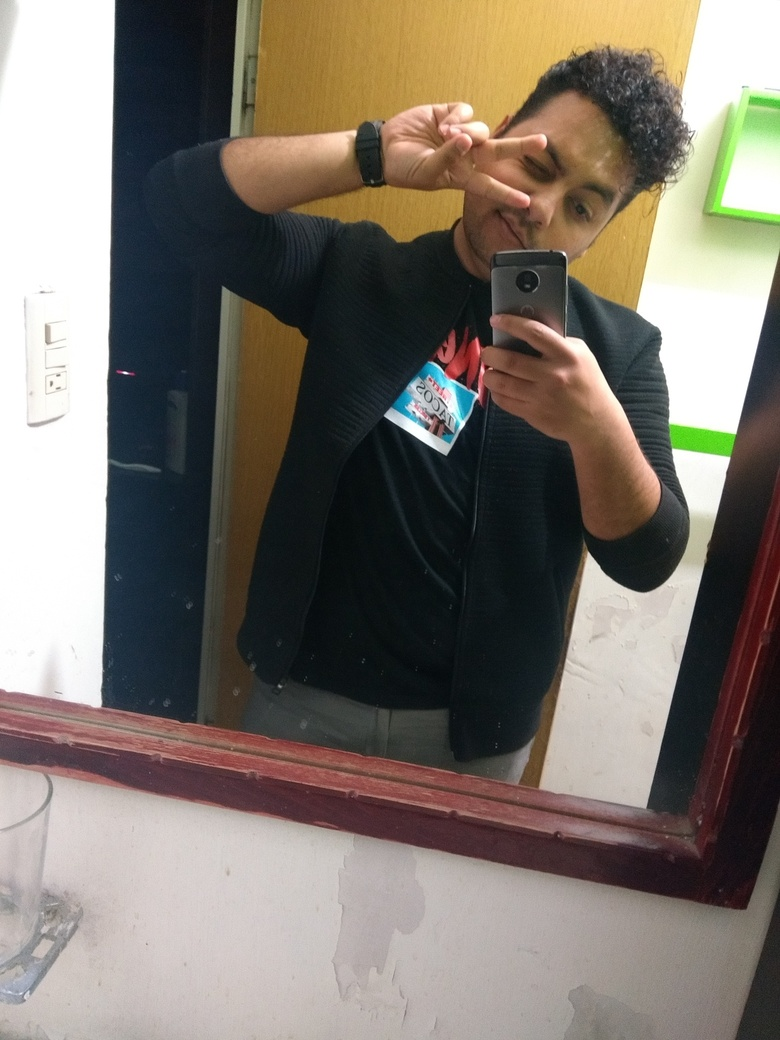Yoshi: (460, 1, 725, 376)
